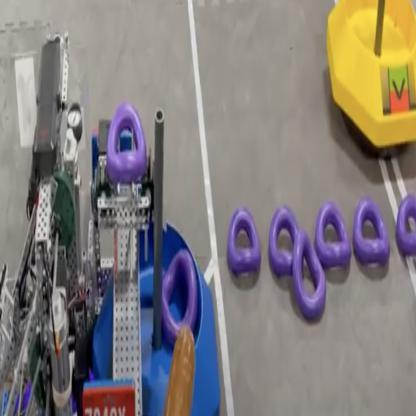ring: (161, 247, 197, 346), (106, 102, 147, 181), (292, 229, 326, 320), (353, 192, 390, 265), (314, 202, 350, 271), (268, 203, 302, 274), (227, 206, 262, 274), (395, 193, 416, 255)
